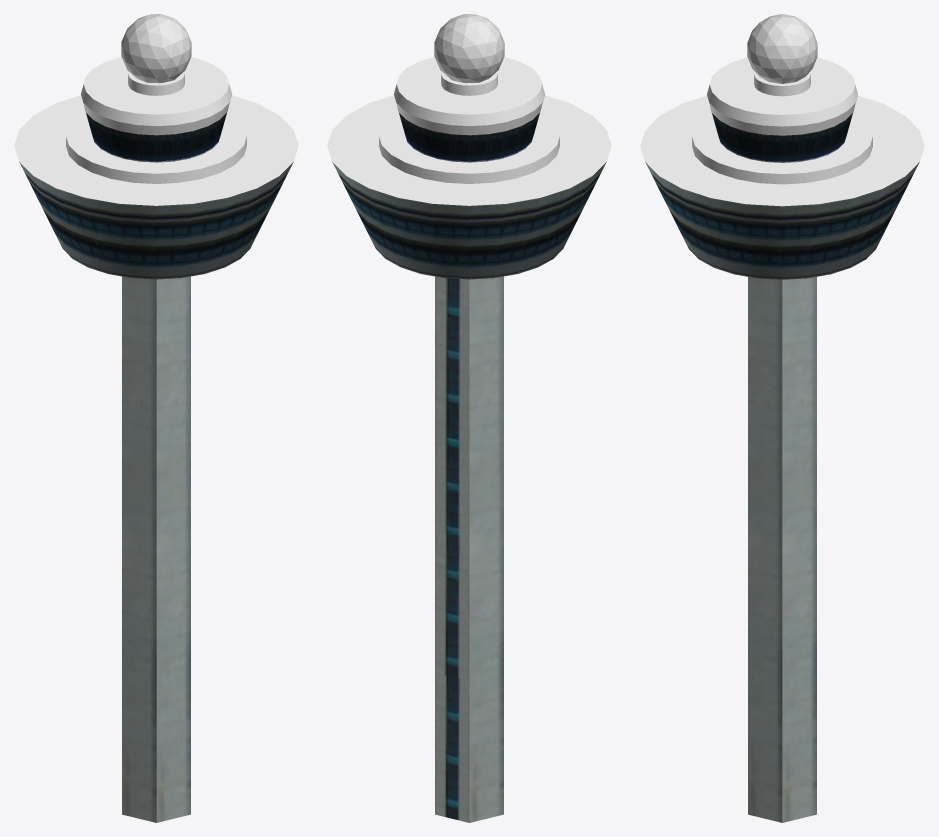
The model's file is singaporeGlobe2.gltf.
The picture shows the model from 3 angles, left to right: view 1: azimuth 30°, elevation 25°; view 2: azimuth 150°, elevation 25°; view 3: azimuth 270°, elevation 25°; orthographic projection.
Visible parts, largest first — view 1: SketchUp.007, SketchUp.010, SketchUp.005, SketchUp.003, SketchUp.002, instance_0, SketchUp.009, SketchUp.004; view 2: SketchUp.007, SketchUp.010, SketchUp.005, SketchUp.003, SketchUp.002, instance_0, SketchUp.009, SketchUp.004; view 3: SketchUp.007, SketchUp.010, SketchUp.005, SketchUp.003, SketchUp.002, instance_0, SketchUp.009, SketchUp.004.
Part boxes in pixels (<box>): SketchUp.007: <box>122,276,190,822</box>; SketchUp.010: <box>19,161,293,279</box>; SketchUp.005: <box>14,95,298,205</box>; SketchUp.003: <box>81,57,231,135</box>; SketchUp.002: <box>66,112,246,183</box>; instance_0: <box>121,14,191,83</box>; SketchUp.009: <box>85,109,227,162</box>; SketchUp.004: <box>128,71,184,95</box>; SketchUp.007: <box>435,276,503,822</box>; SketchUp.010: <box>332,161,606,279</box>; SketchUp.005: <box>327,95,611,205</box>; SketchUp.003: <box>394,57,544,135</box>; SketchUp.002: <box>379,112,559,183</box>; instance_0: <box>434,14,504,83</box>; SketchUp.009: <box>398,109,540,162</box>; SketchUp.004: <box>441,71,497,95</box>; SketchUp.007: <box>748,277,816,822</box>; SketchUp.010: <box>645,162,919,279</box>; SketchUp.005: <box>640,95,924,206</box>; SketchUp.003: <box>707,57,857,135</box>; SketchUp.002: <box>692,112,872,184</box>; instance_0: <box>747,14,817,83</box>; SketchUp.009: <box>711,110,853,162</box>; SketchUp.004: <box>754,72,810,96</box>.
Bounding box in the file's own units: 2.5 × 7.65 × 2.5.
Materials: 6 (3 with a texture image).
